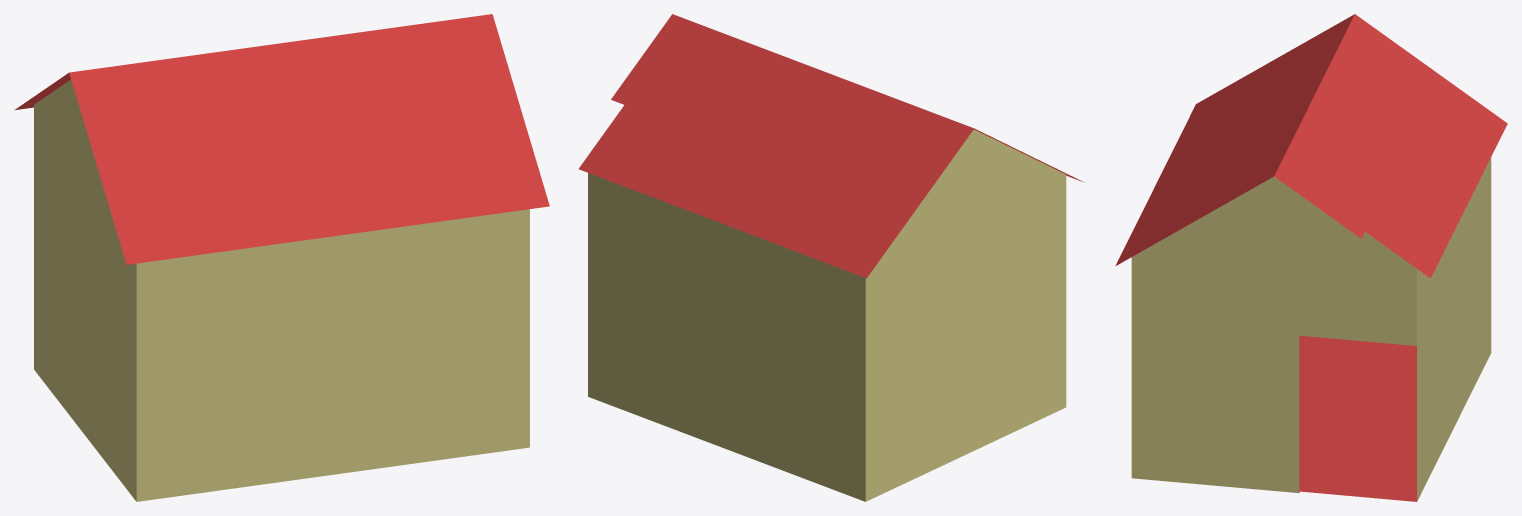
The picture shows the model from 3 angles, left to right: view 1: azimuth 30°, elevation 25°; view 2: azimuth 150°, elevation 25°; view 3: azimuth 270°, elevation 25°; orthographic projection. The views are drawn at different scales.
Size of the model in its own units: 15.72 by 14.15 by 12.75.
